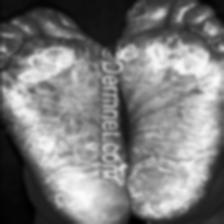Non-Cancerous Skin Condition: (132, 158, 200, 218), (145, 32, 208, 80), (10, 38, 72, 86), (52, 171, 100, 195), (117, 44, 136, 62)
